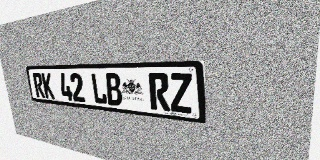2: (69, 73, 85, 102)
4: (58, 73, 73, 101)
B: (104, 73, 123, 106)
K: (41, 73, 55, 99)
L: (90, 73, 108, 105)
R: (148, 73, 170, 111), (32, 73, 45, 98)
Z: (169, 73, 193, 114)
